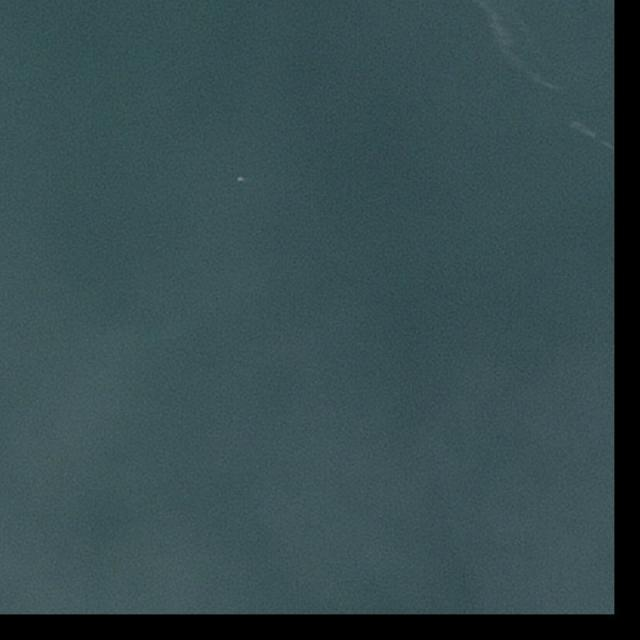ship: (238, 171, 246, 186)
